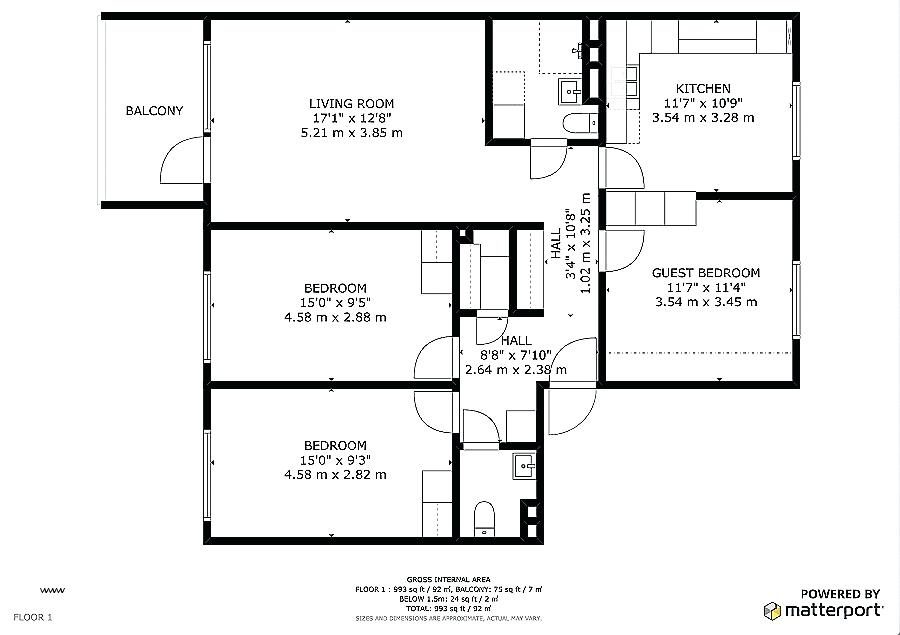room: (199, 12, 495, 230), (199, 222, 462, 392), (200, 379, 461, 548), (594, 190, 802, 391), (596, 10, 802, 200), (483, 9, 609, 149), (449, 440, 545, 544), (448, 221, 520, 319)
